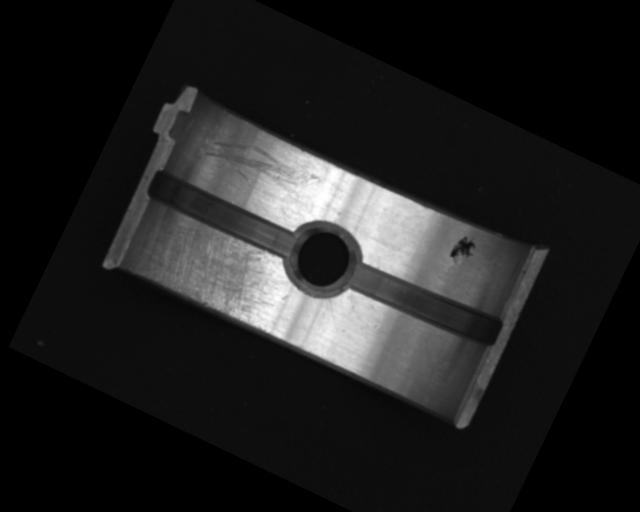blot: (446, 231, 481, 269)
gap: (341, 248, 510, 357), (143, 165, 302, 264)
hole: (275, 215, 367, 304)
nick: (199, 123, 323, 210), (315, 294, 350, 332)
scratch: (127, 200, 296, 335)
